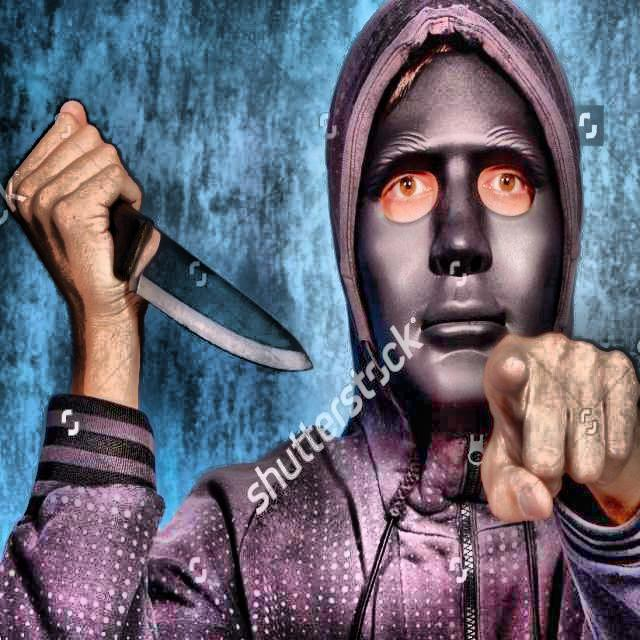knife: (106, 200, 314, 370)
